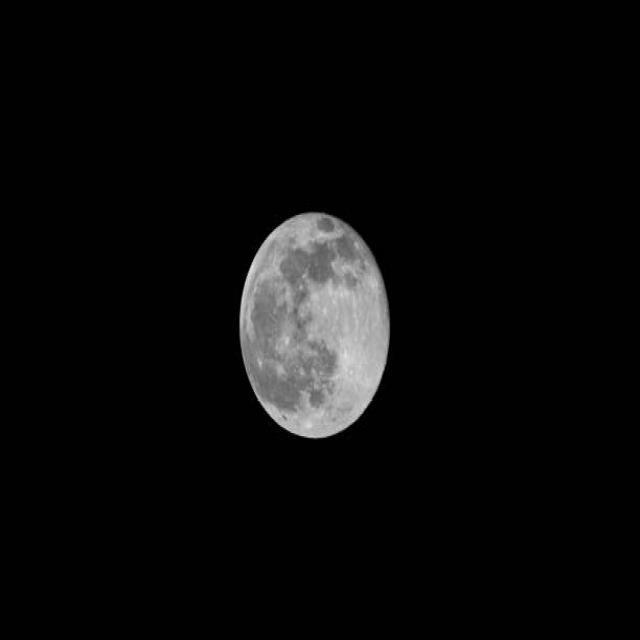moon: (236, 211, 390, 444)
